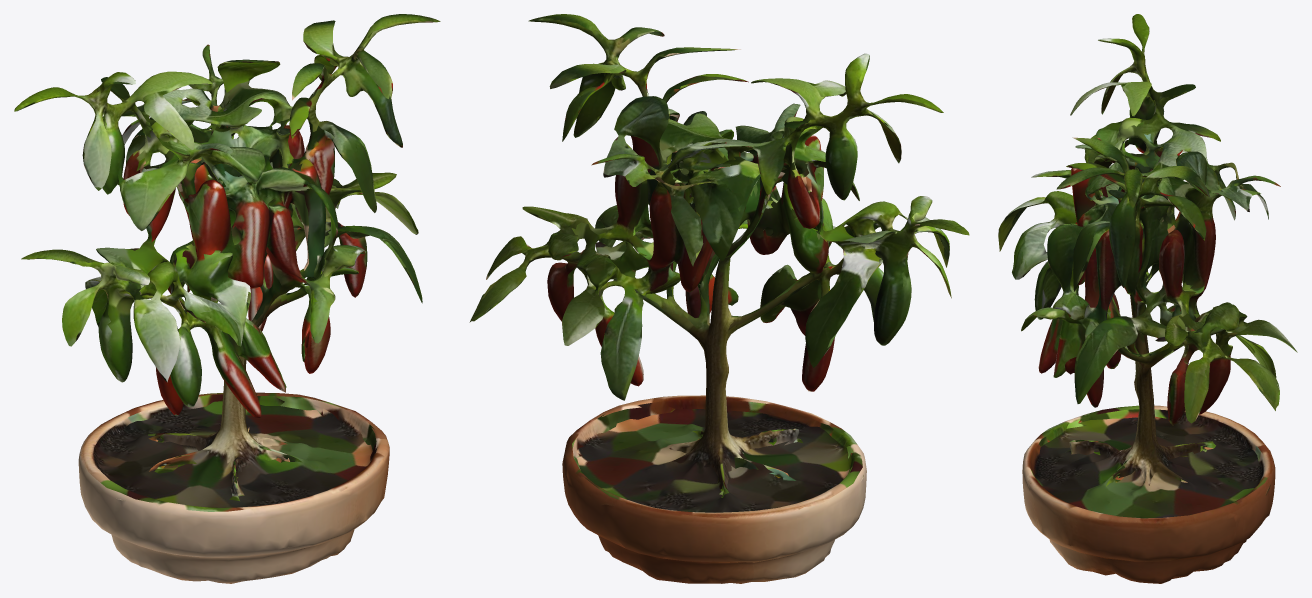
File: pepper.glb
The picture shows the model from 3 angles, left to right: view 1: azimuth 30°, elevation 25°; view 2: azimuth 150°, elevation 25°; view 3: azimuth 270°, elevation 25°; orthographic projection. The views are drawn at different scales.
Visible parts, largest first — view 1: Chili Pepper Plant_0; view 2: Chili Pepper Plant_0; view 3: Chili Pepper Plant_0.
Part boxes in pixels (<box>): Chili Pepper Plant_0: <box>14,14,440,583</box>; Chili Pepper Plant_0: <box>469,14,969,583</box>; Chili Pepper Plant_0: <box>998,14,1297,583</box>.
Size of the model in its own units: 0.4555 by 0.5 by 0.3024.
1 material, 1 textured.
